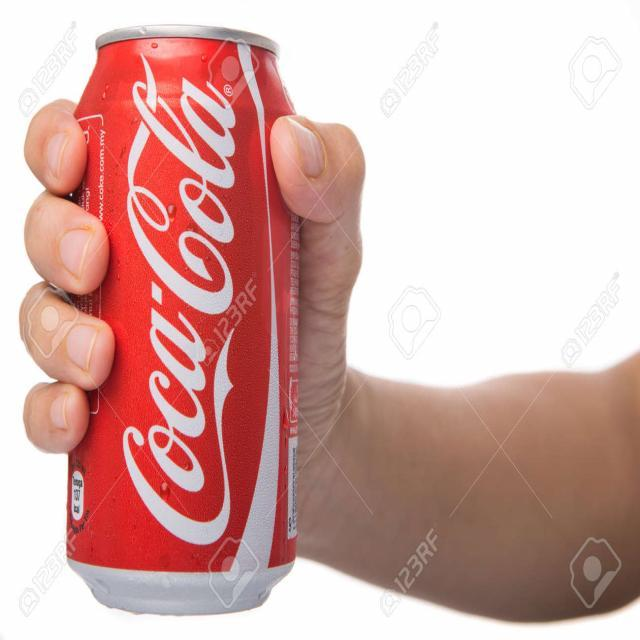coca-cola: (66, 21, 300, 609)
